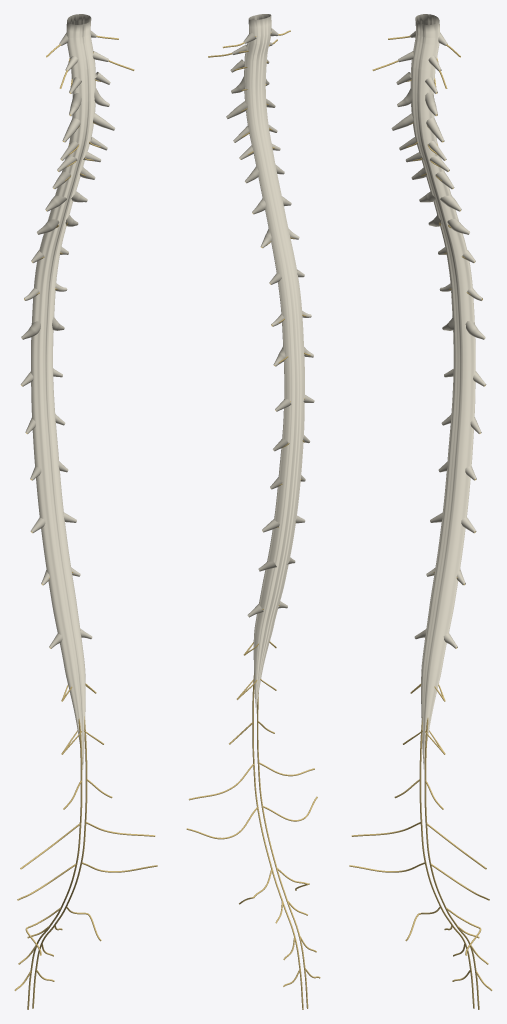
The model's file is detail-nervous-trunk.glb.
3 renders of one model, left to right at view 1: azimuth 30°, elevation 25°; view 2: azimuth 210°, elevation 25°; view 3: azimuth 330°, elevation 25°, orthographic. The views are drawn at different scales.
Visible parts, largest first — view 1: za-7bcc2337523da2fd, za-31720d668e47abe3; view 2: za-7bcc2337523da2fd, za-31720d668e47abe3; view 3: za-7bcc2337523da2fd, za-31720d668e47abe3.
Part boxes in pixels (x1=…): za-7bcc2337523da2fd: x1=20, y1=14, x2=115, y2=769; za-31720d668e47abe3: x1=14, y1=716, x2=157, y2=1009; za-7bcc2337523da2fd: x1=226, y1=14, x2=314, y2=713; za-31720d668e47abe3: x1=186, y1=673, x2=320, y2=1009; za-7bcc2337523da2fd: x1=391, y1=14, x2=486, y2=769; za-31720d668e47abe3: x1=349, y1=717, x2=492, y2=1009.
Bounding box in the file's own units: 0.0962 × 0.672 × 0.0802.
